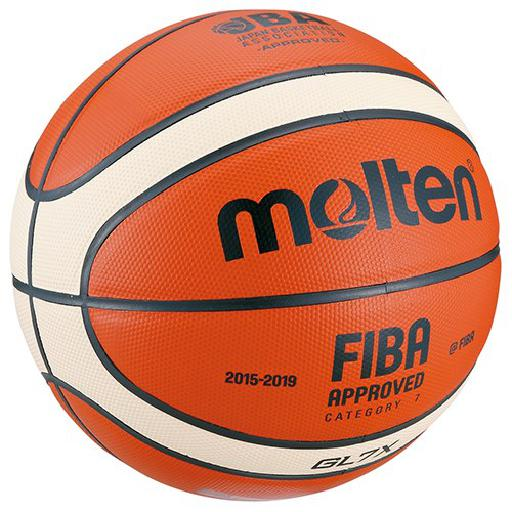ball: (9, 9, 501, 500)
